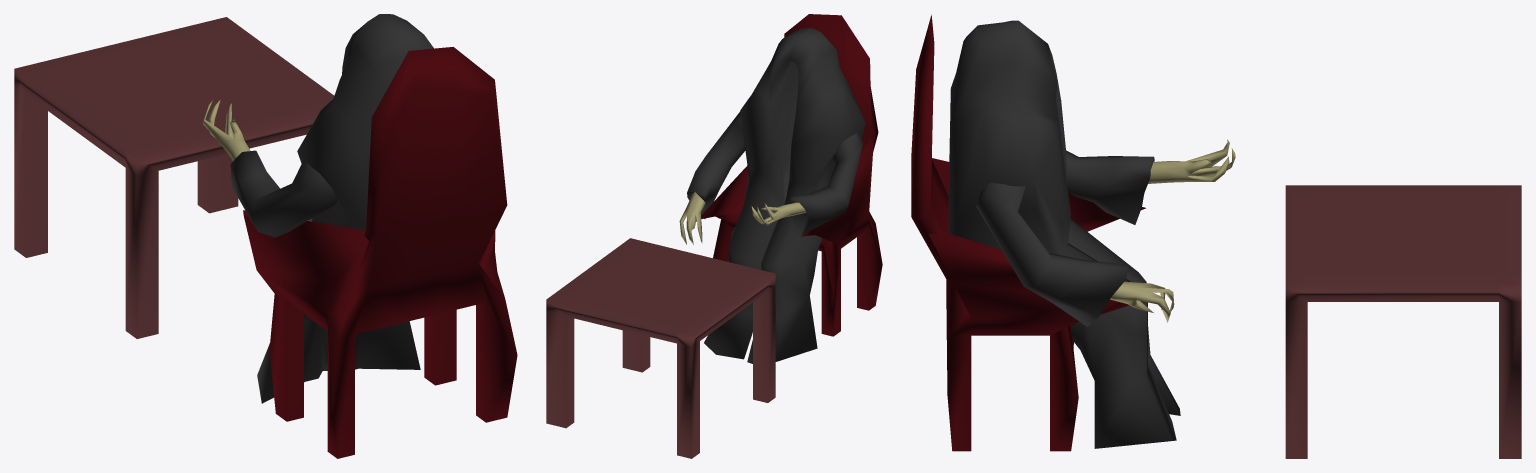
Rendered from Death.fbx.
The picture shows the model from 3 angles, left to right: view 1: azimuth 30°, elevation 25°; view 2: azimuth 150°, elevation 25°; view 3: azimuth 270°, elevation 25°; orthographic projection. The views are drawn at different scales.
Visible parts, largest first — view 1: Chair, Table, Body, ArmR, HandR; view 2: Body, Table, Chair, ArmR, ArmL, HandL, HandR; view 3: Table, Body, Chair, ArmL, ArmR, HandR, HandL.
Part boxes in pixels (x1,y1,x2,y2): Chair: [243, 47, 517, 458]; Table: [14, 17, 333, 338]; Body: [257, 14, 433, 403]; ArmR: [230, 150, 337, 237]; HandR: [202, 99, 250, 160]; Body: [704, 28, 865, 363]; Table: [546, 238, 775, 458]; Chair: [695, 14, 882, 336]; ArmR: [789, 132, 863, 239]; ArmL: [687, 111, 745, 218]; HandL: [679, 192, 705, 244]; HandR: [751, 202, 805, 225]; Table: [1285, 185, 1521, 458]; Body: [948, 20, 1180, 448]; Chair: [911, 14, 1146, 451]; ArmL: [976, 182, 1128, 326]; ArmR: [1066, 150, 1154, 224]; HandR: [1148, 139, 1235, 183]; HandL: [1110, 281, 1174, 322].
Size of the model in its own units: 432 by 743 by 1027.
